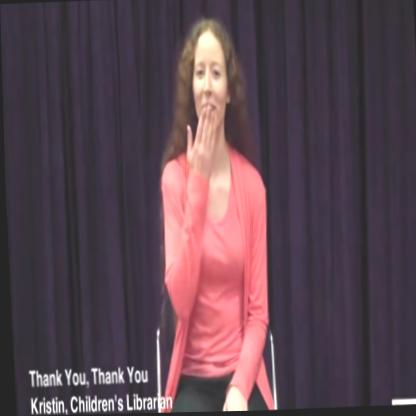ThankYou: (159, 4, 256, 248)
